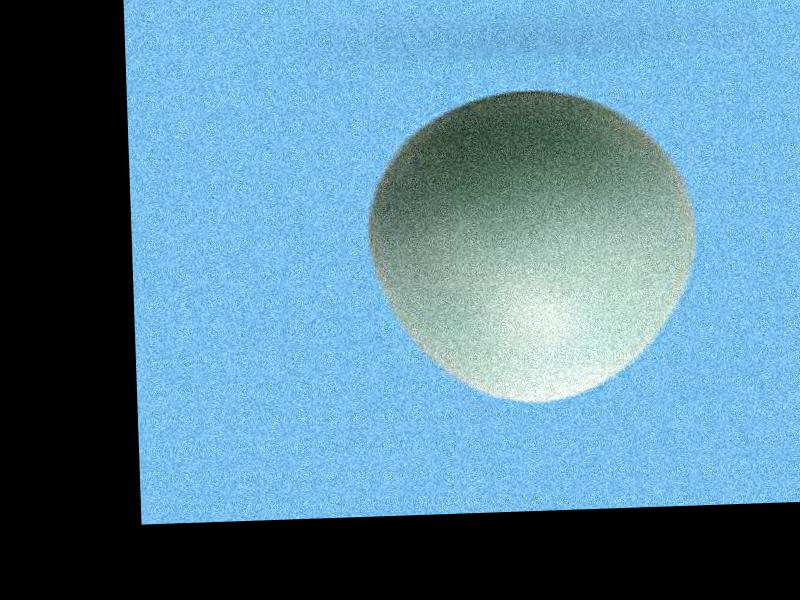Eggs: (359, 87, 699, 407)
